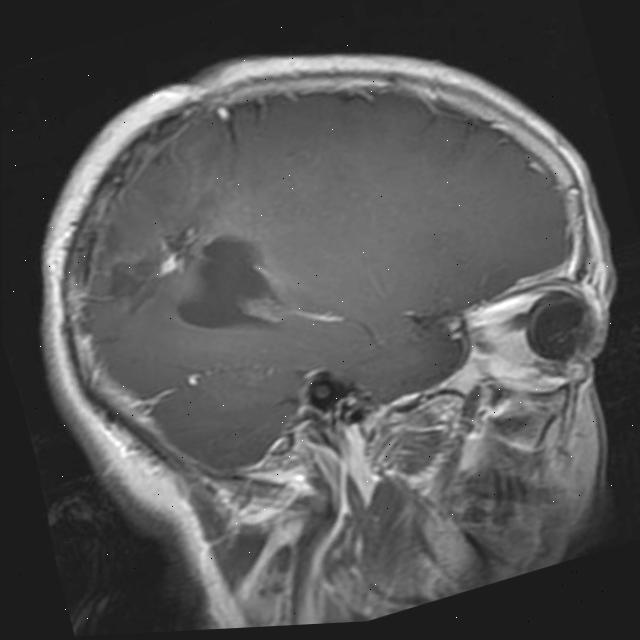Glioma: (98, 220, 213, 307)
